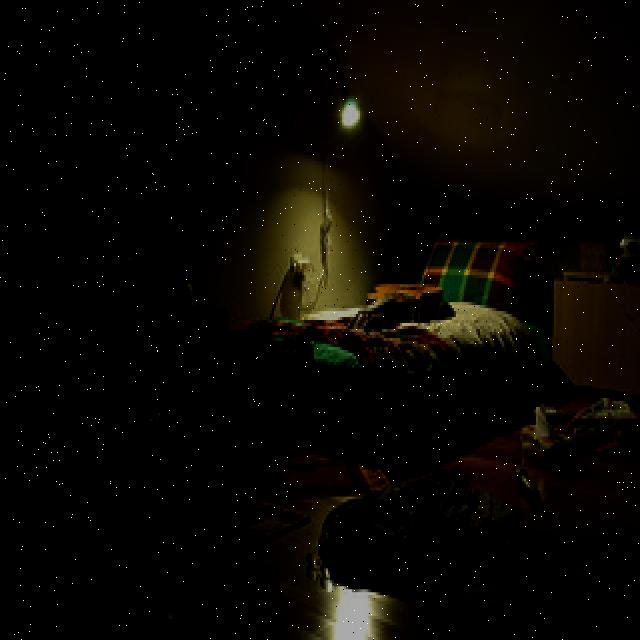bed: (289, 233, 552, 442)
